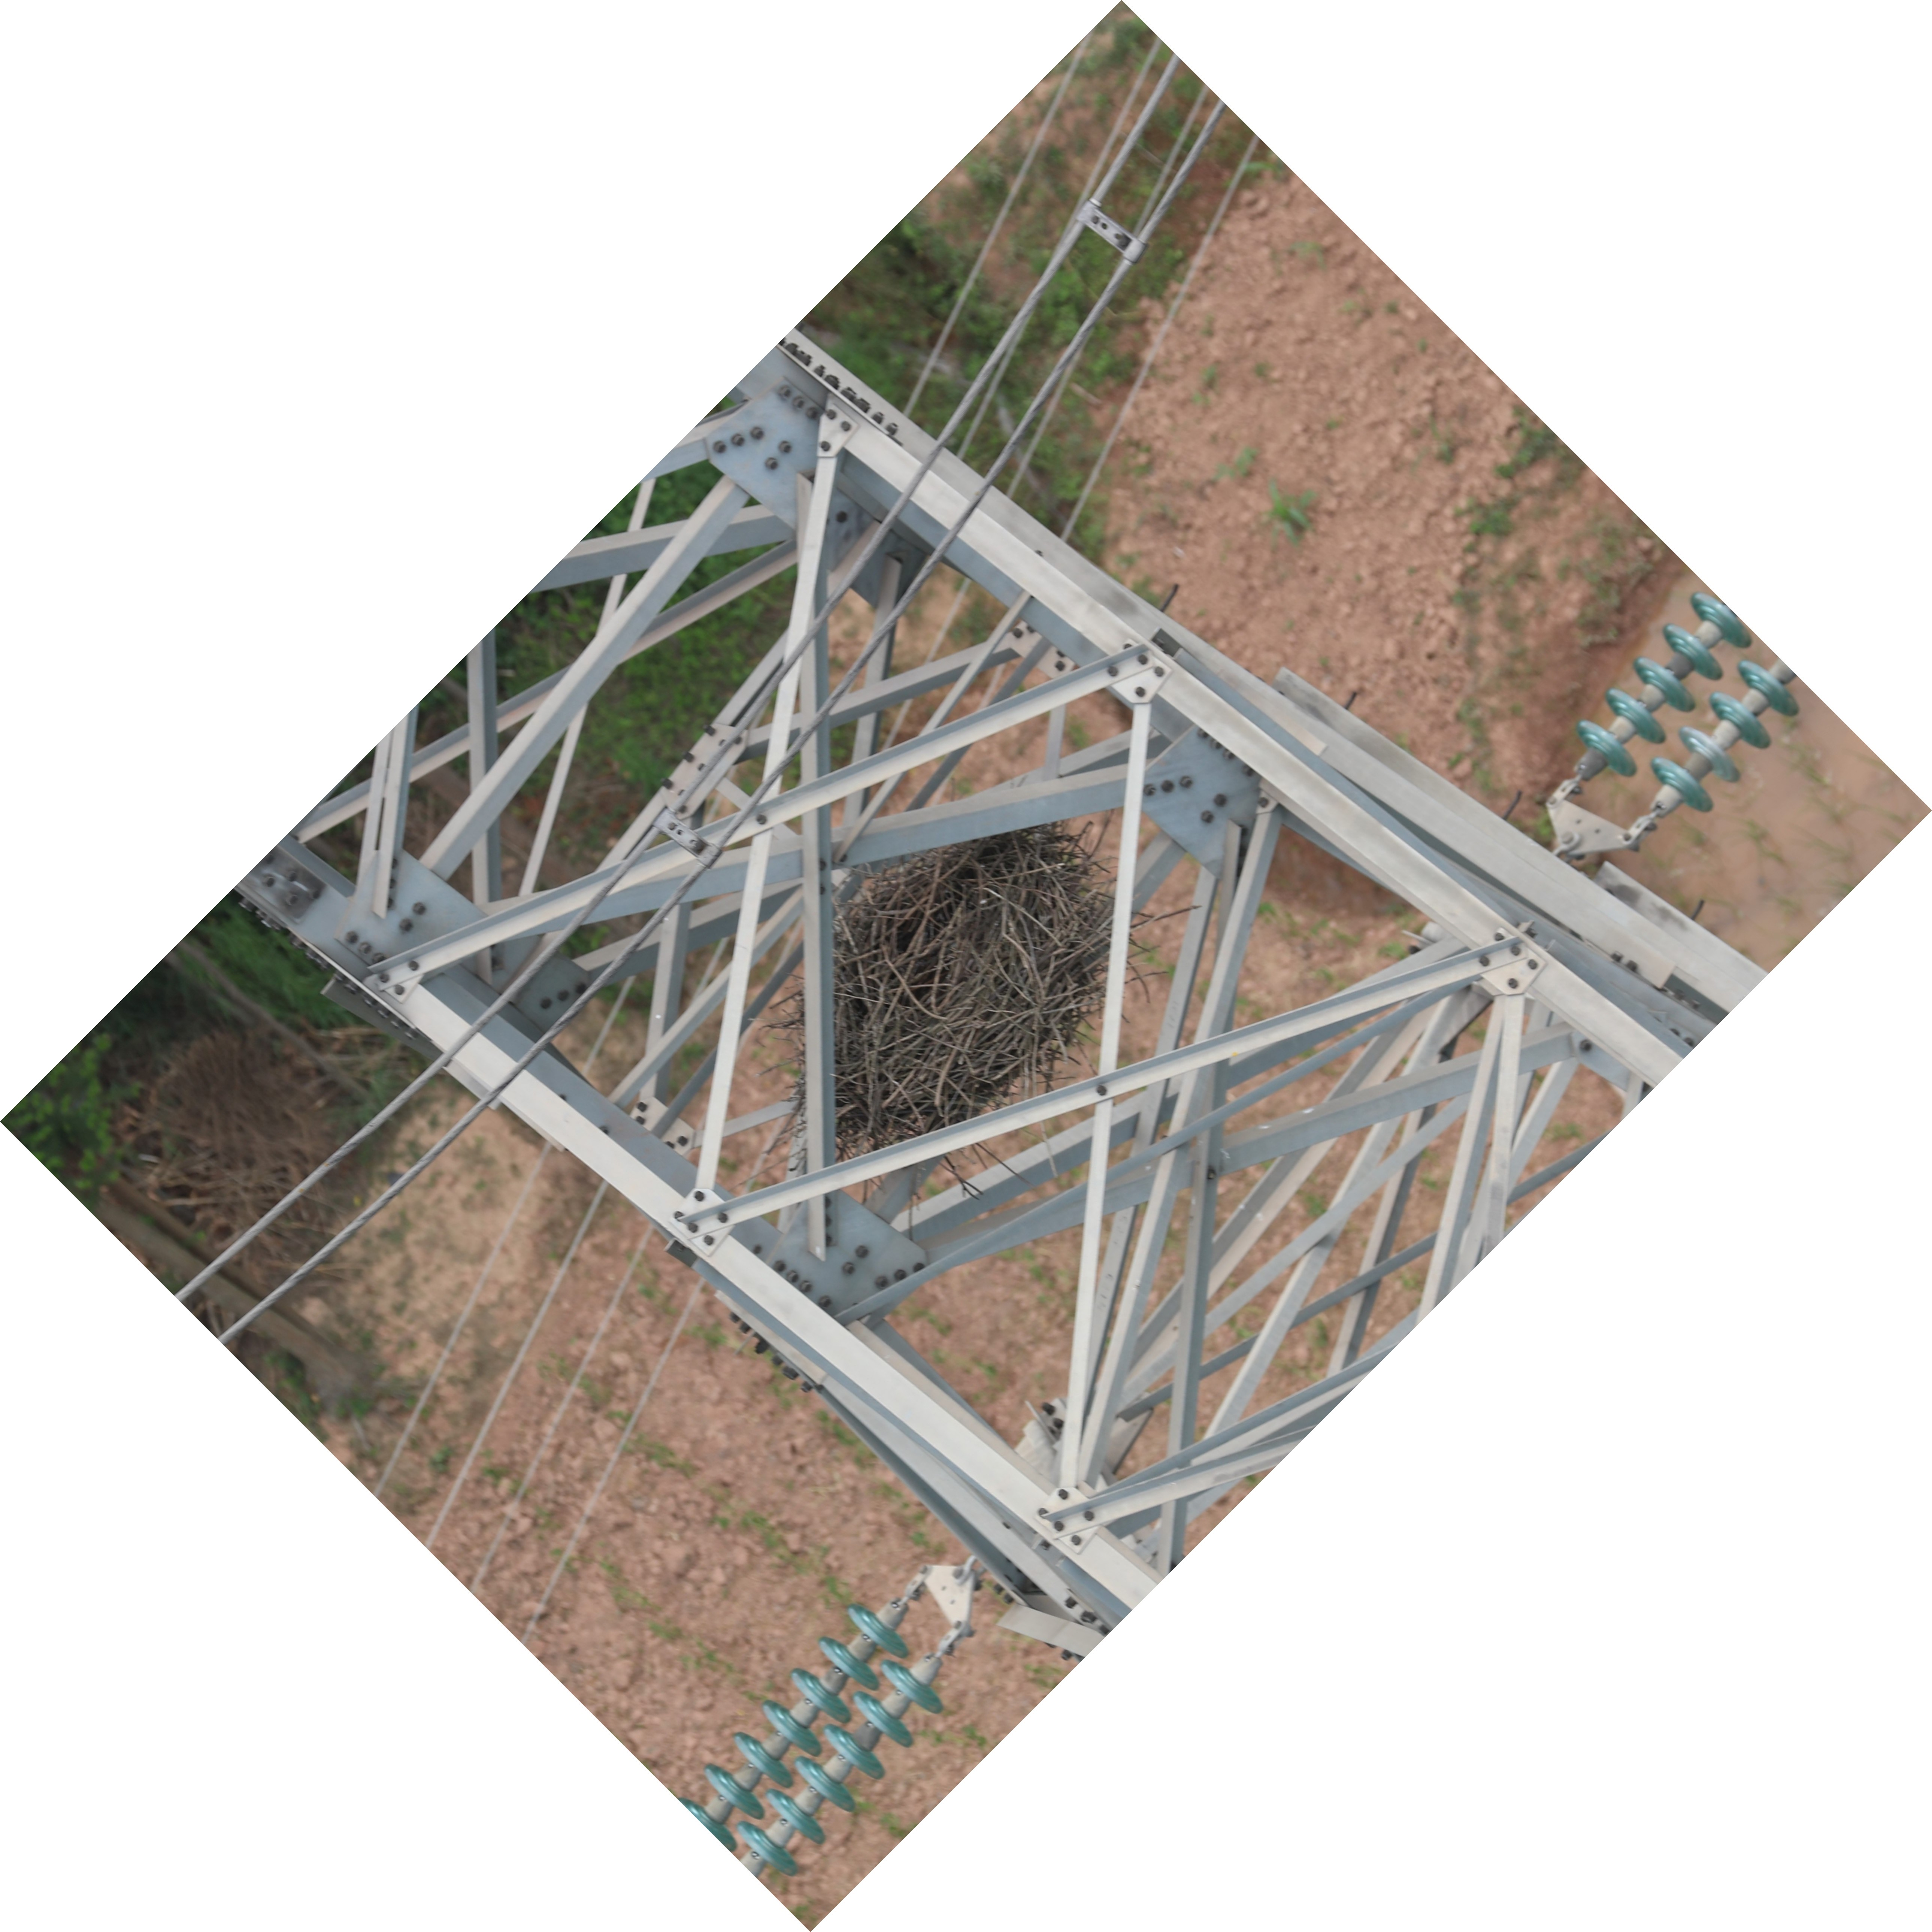niaowo: (777, 823, 1150, 1154)
